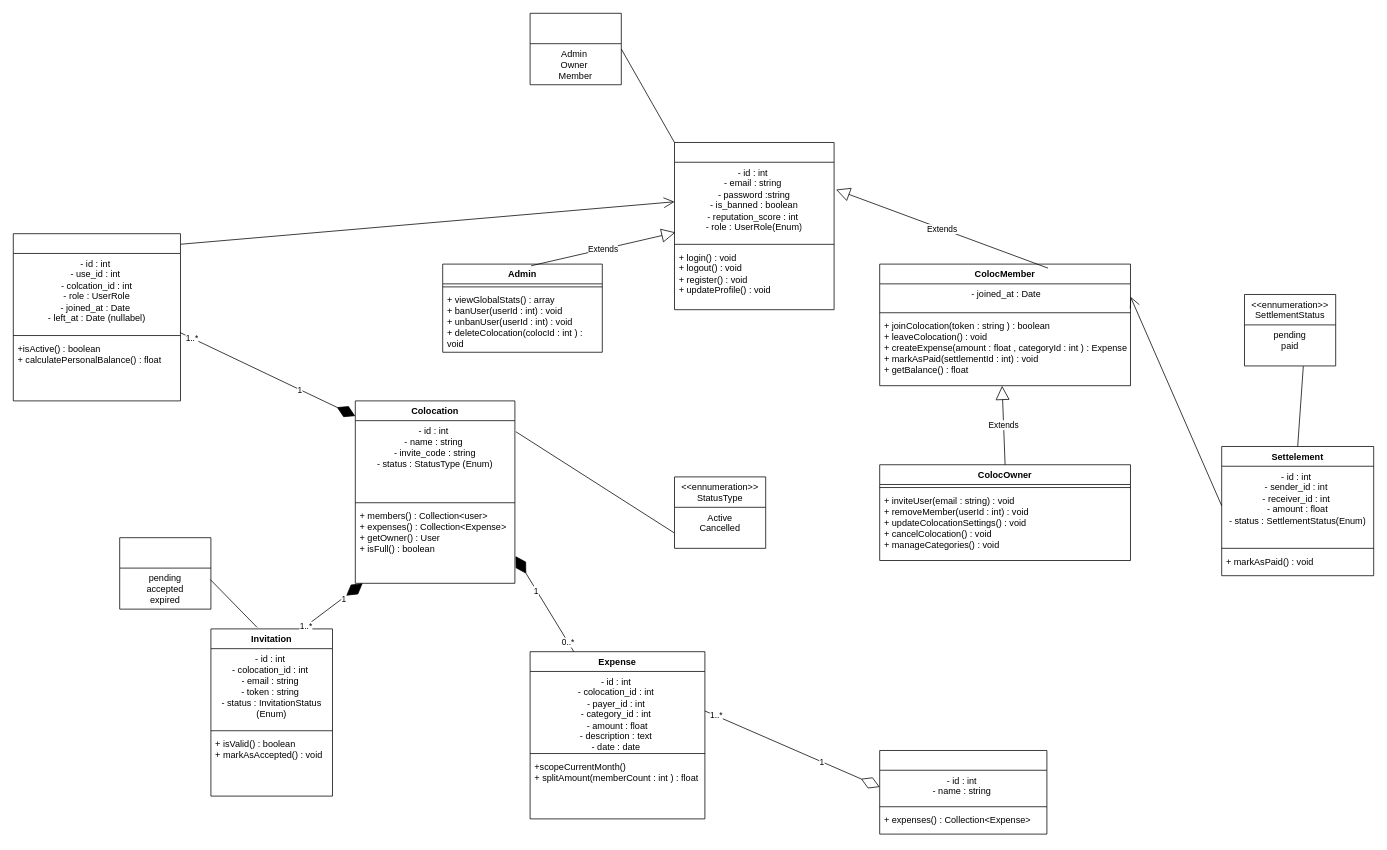
Some shapes in this 1387 by 850 pixel diagram are drawn without their labels. The box of each missing label's shape, as (x1, y1, x2, y2) in pixels:
<<ennumeration>> InvitationStatus: (119, 537, 211, 609)
<<ennumeration>> UserRole: (529, 13, 621, 85)
Category: (879, 750, 1047, 834)
Membership: (13, 233, 180, 401)
Utilisateur: (674, 142, 834, 310)
